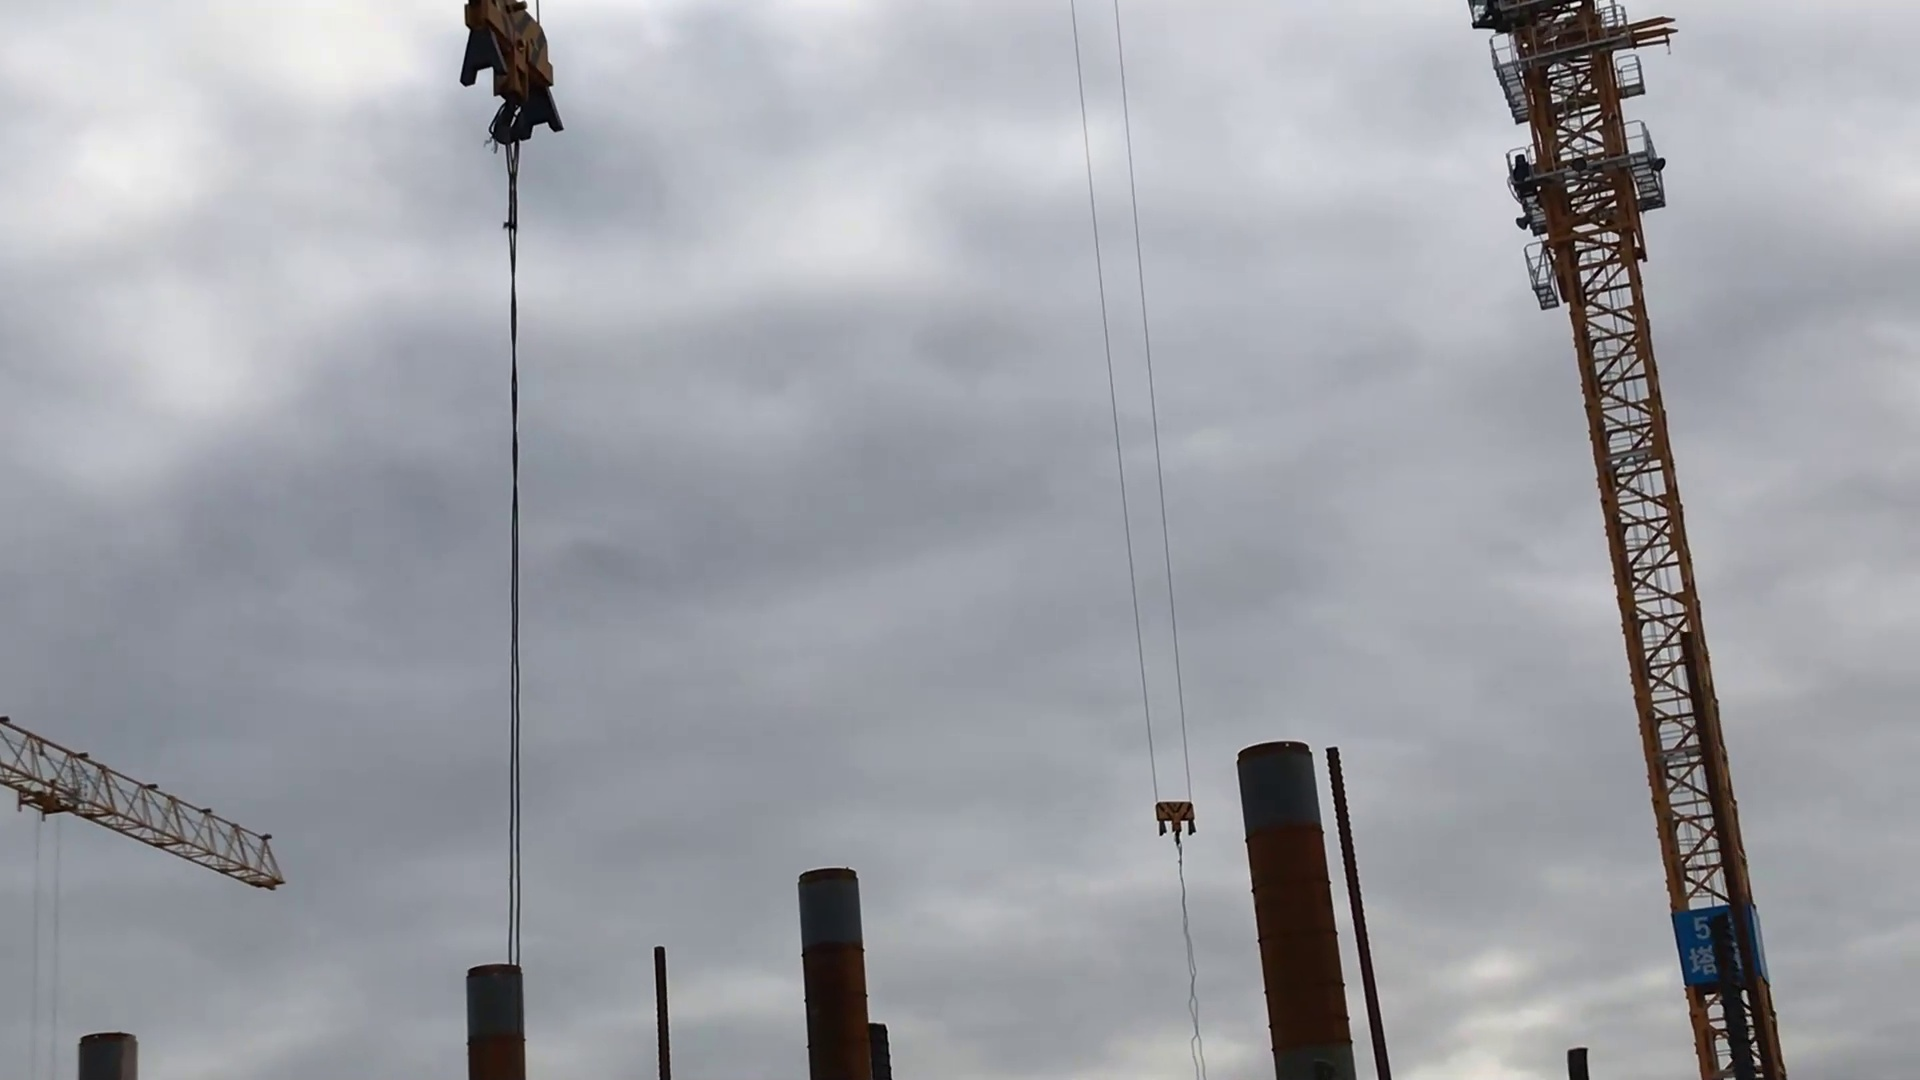hook: (454, 3, 567, 158)
